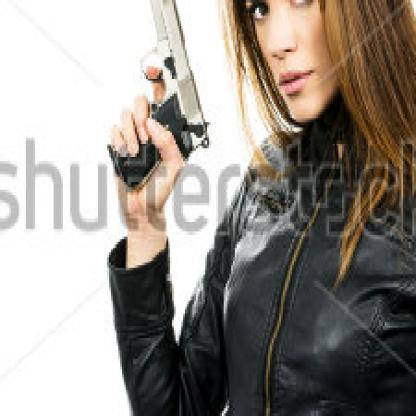gun: (94, 0, 220, 211)
